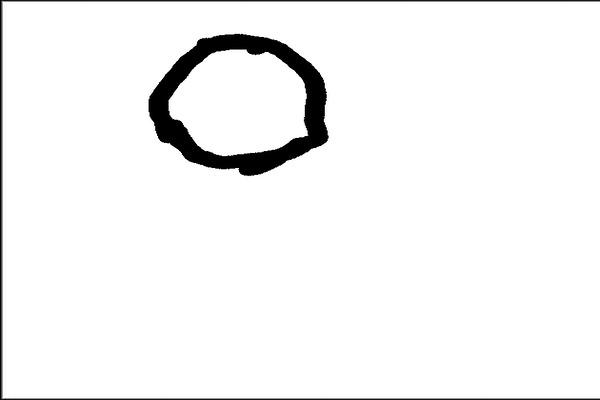O: (138, 24, 336, 178)
